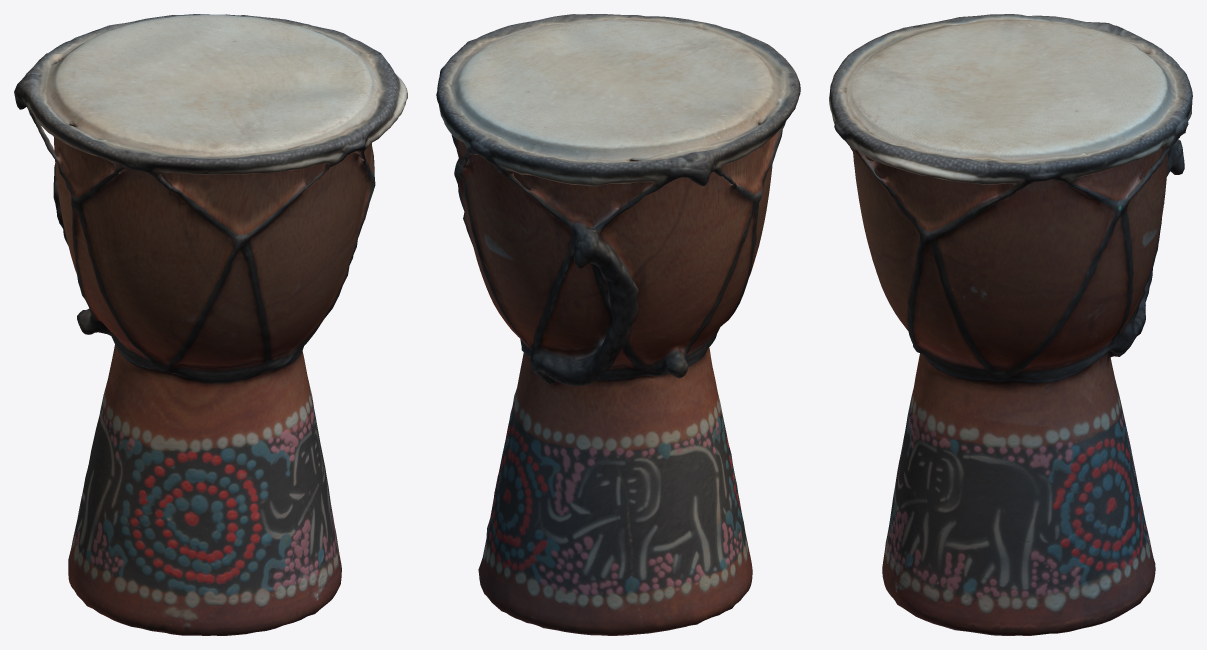
Rendered from djembe.glb.
The picture shows the model from 3 angles, left to right: view 1: azimuth 30°, elevation 25°; view 2: azimuth 150°, elevation 25°; view 3: azimuth 270°, elevation 25°; orthographic projection.
Visible parts, largest first — view 1: Baraban_Low_poly_Textured; view 2: Baraban_Low_poly_Textured; view 3: Baraban_Low_poly_Textured.
Part boxes in pixels (x1=…): Baraban_Low_poly_Textured: x1=14, y1=14, x2=407, y2=635; Baraban_Low_poly_Textured: x1=436, y1=14, x2=800, y2=635; Baraban_Low_poly_Textured: x1=829, y1=14, x2=1192, y2=635.
Size of the model in its own units: 12.81 by 19.32 by 12.69.
1 material, 1 textured.
